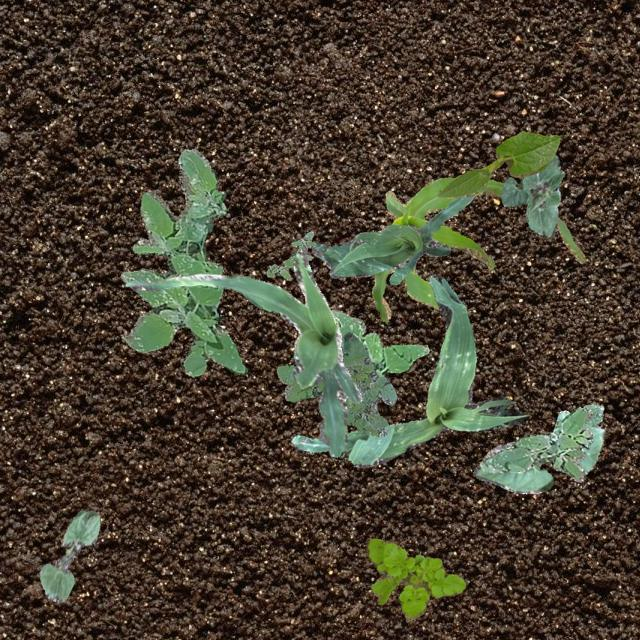crop: (125, 252, 362, 456), (290, 273, 524, 467), (370, 176, 584, 322), (310, 194, 472, 284), (472, 423, 604, 492), (434, 130, 558, 198), (39, 510, 100, 600), (520, 154, 564, 235), (552, 404, 602, 434), (501, 177, 528, 206)
weed: (118, 148, 246, 376), (276, 332, 396, 436), (364, 538, 464, 620), (482, 406, 592, 480), (329, 308, 428, 376), (266, 230, 316, 280)
